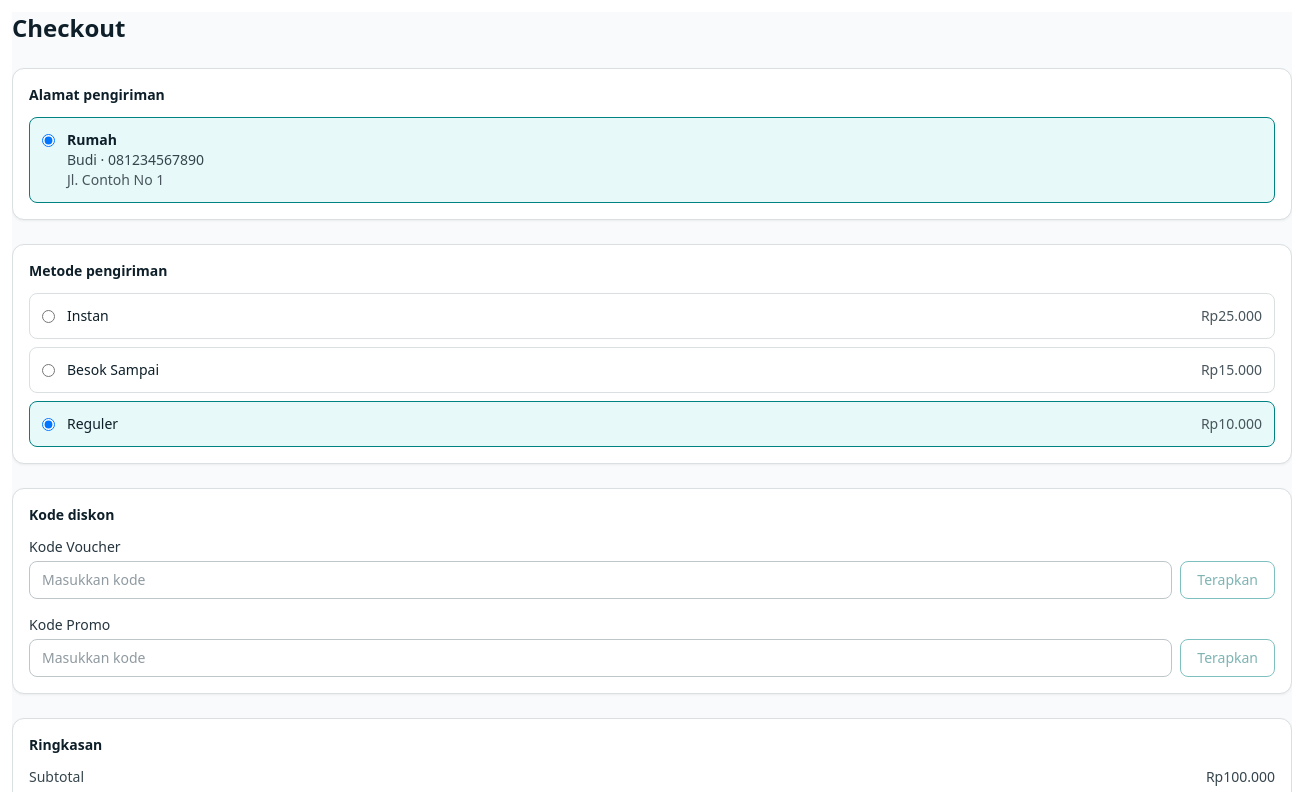
Test: Checkout discount code apply flow › shows the authoritative preview amount on the promo badge when stacked with a voucher, not the standalone validate amount
The width and height of the screenshot is (1292, 792).
Type "hemat10" into the field labelled "Kode Voucher" at (601, 580), box [29,561,1172,599]
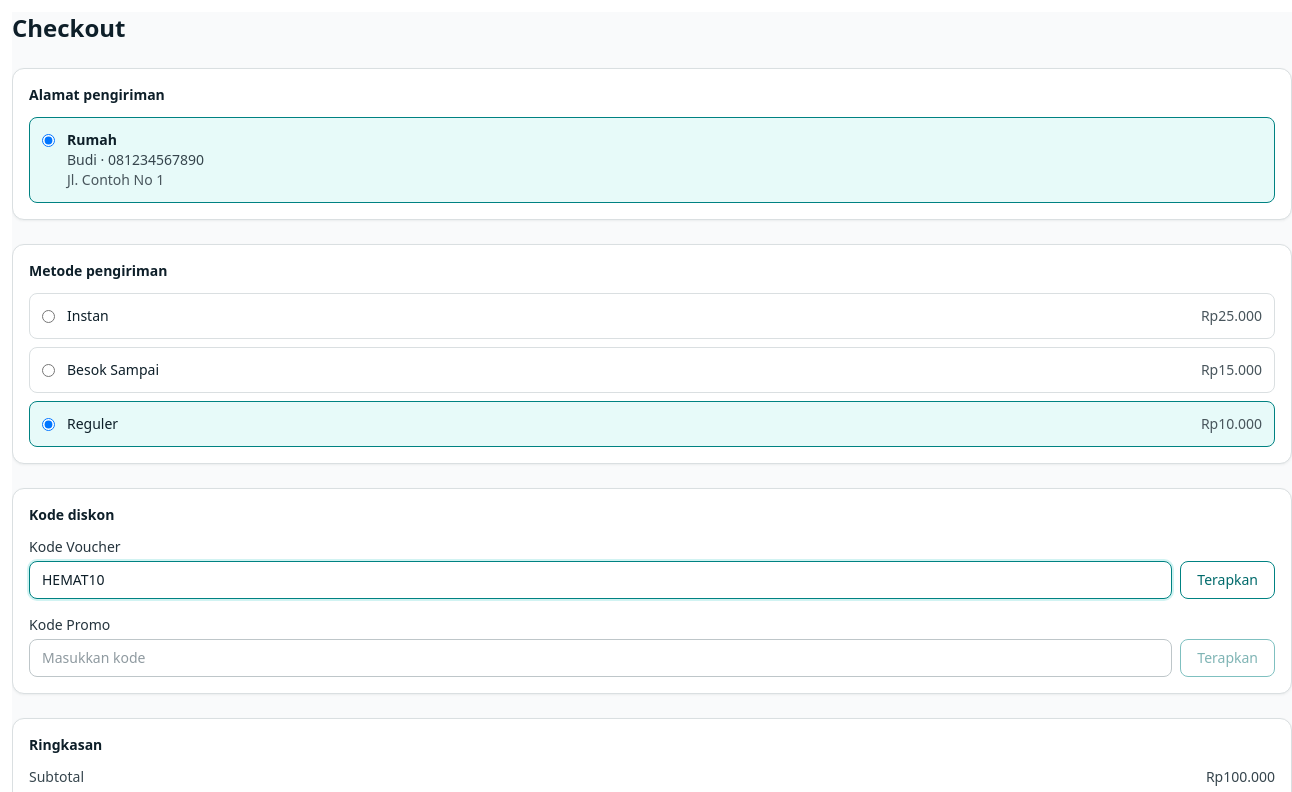
Click the 1st button "Terapkan" at (1228, 580), box [1180,561,1275,599]
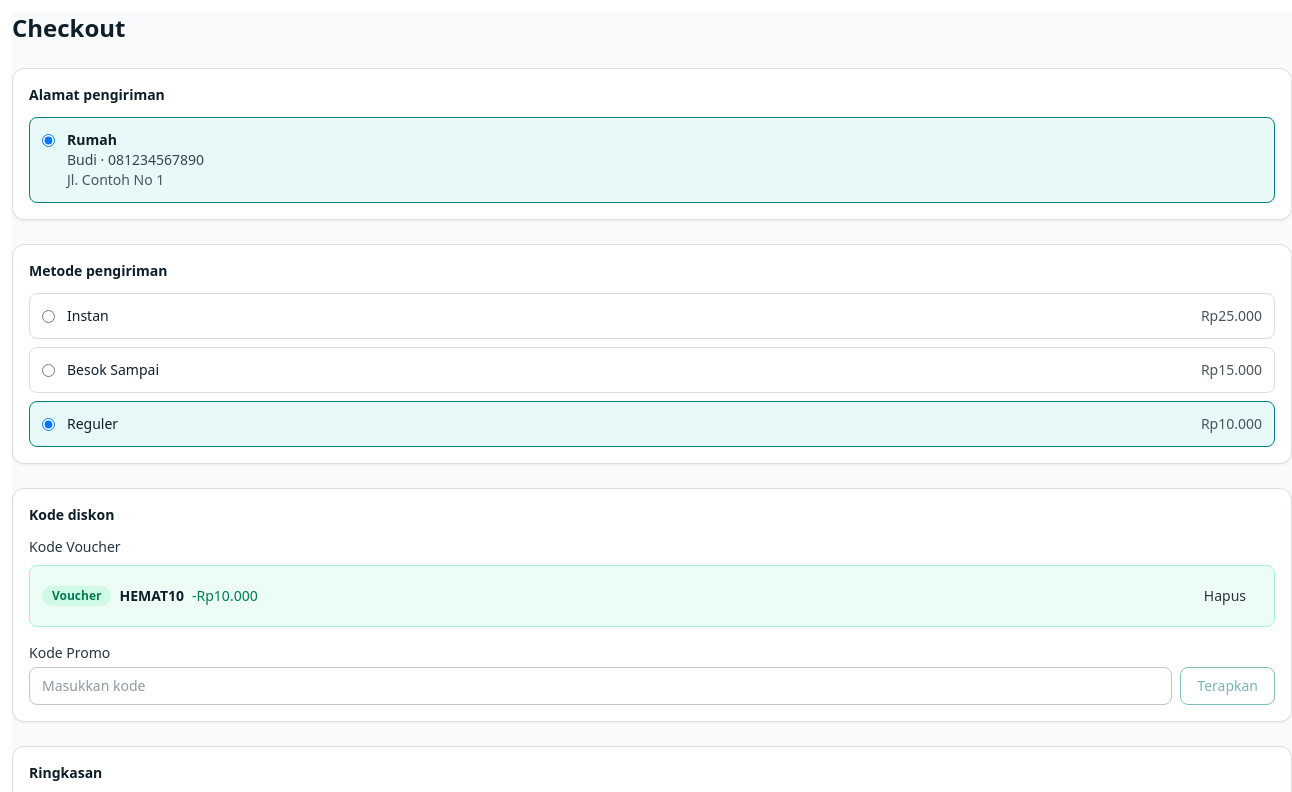
Check: the text "HEMAT10" below "Kode Voucher" is shown, box [120,586,184,605]
Type "diskon50" into the field labelled "Kode Promo" at (601, 686), box [29,667,1172,705]
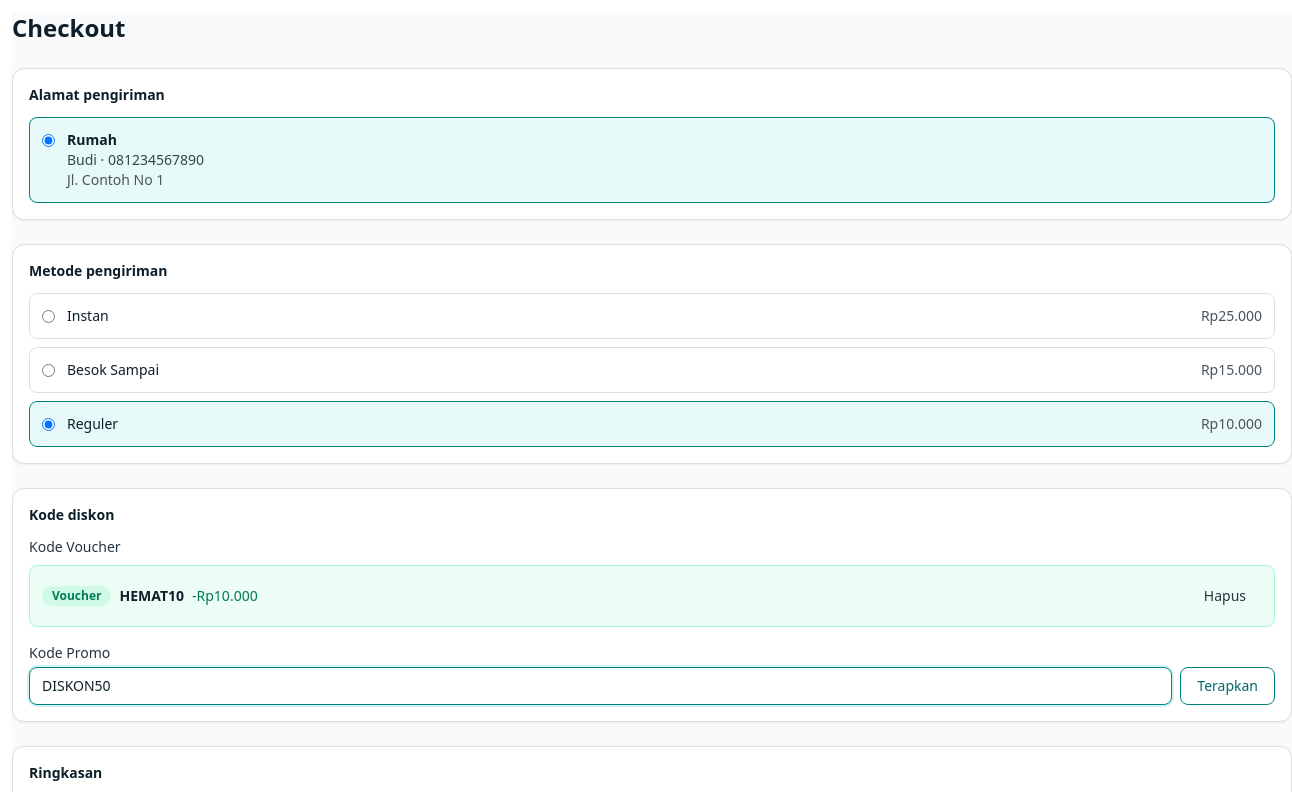
Click the button "Terapkan" at (1228, 686), box [1180,667,1275,705]
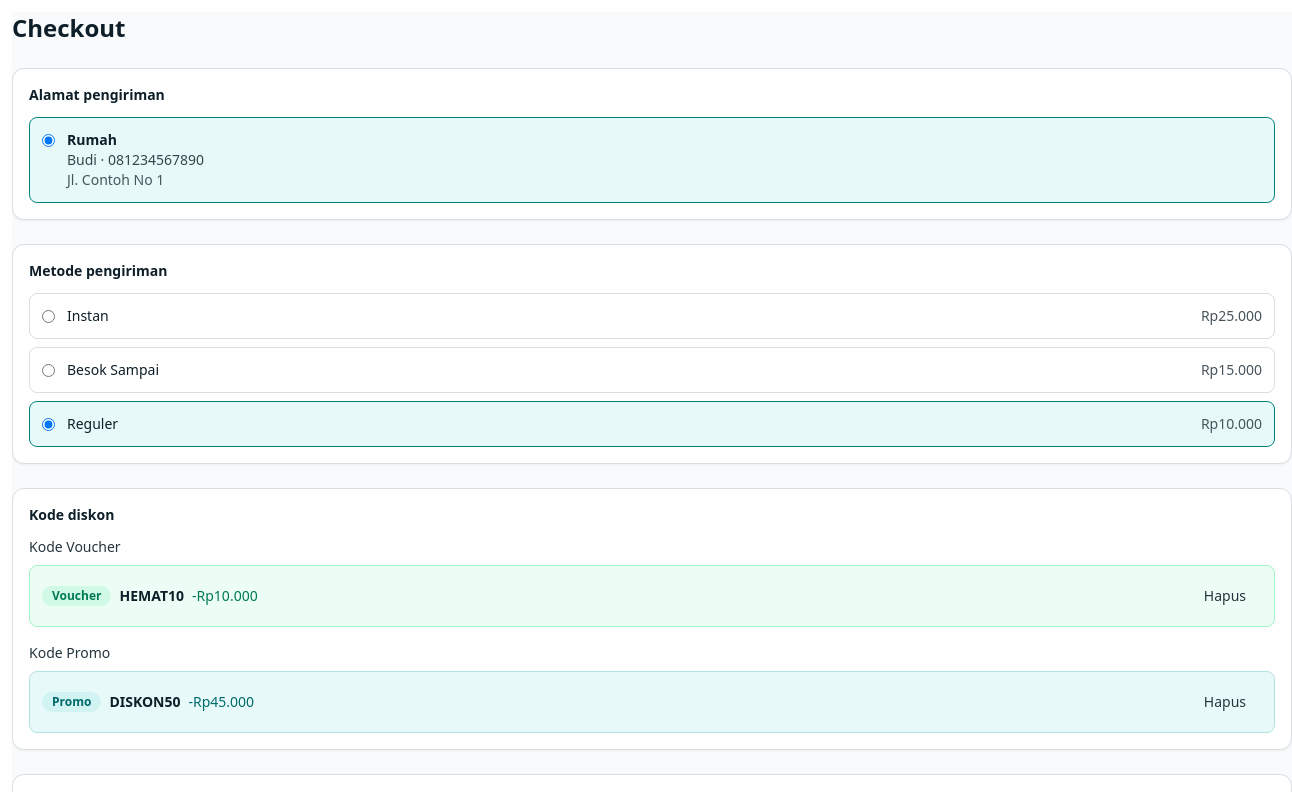
Check: the text "DISKON50" is shown, box [109,692,180,712]
Check: the text "-Rp45.000" is shown, box [188,692,254,712]
